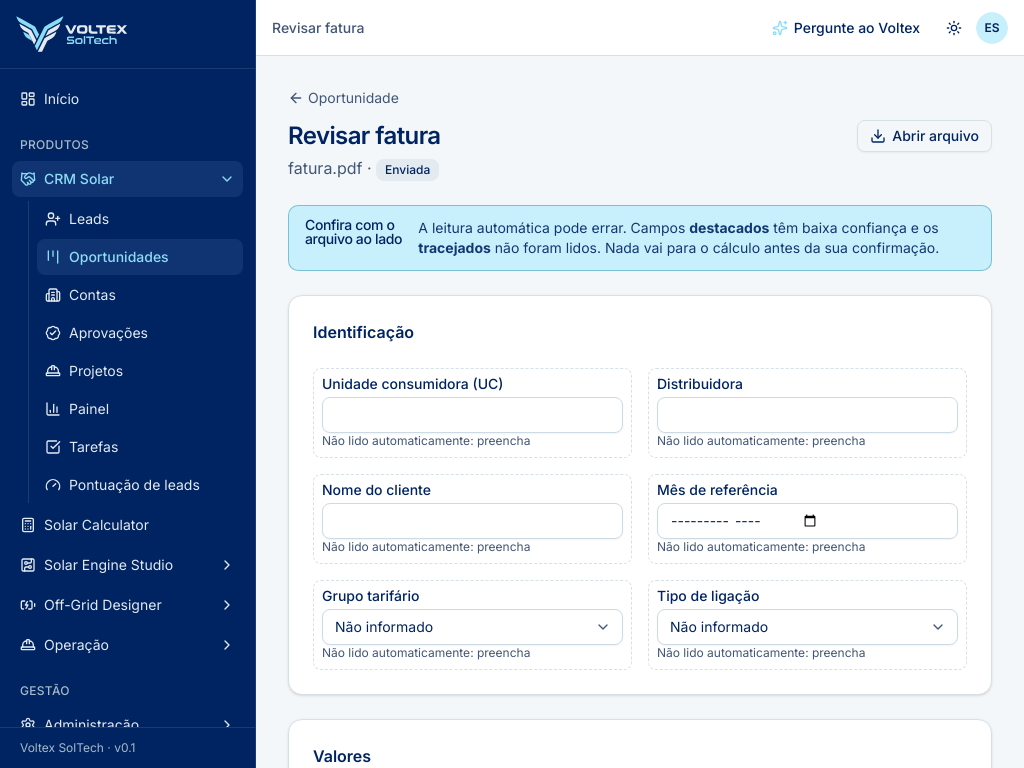
Test: CRM · Revisão da fatura › linha de consumo incompleta aponta o campo; dá para adicionar e remover meses
Type "7001234" into the field labelled "Unidade consumidora (UC)" at (472, 415), box x1=322 y1=397 x2=623 y2=433
(page scrolled)
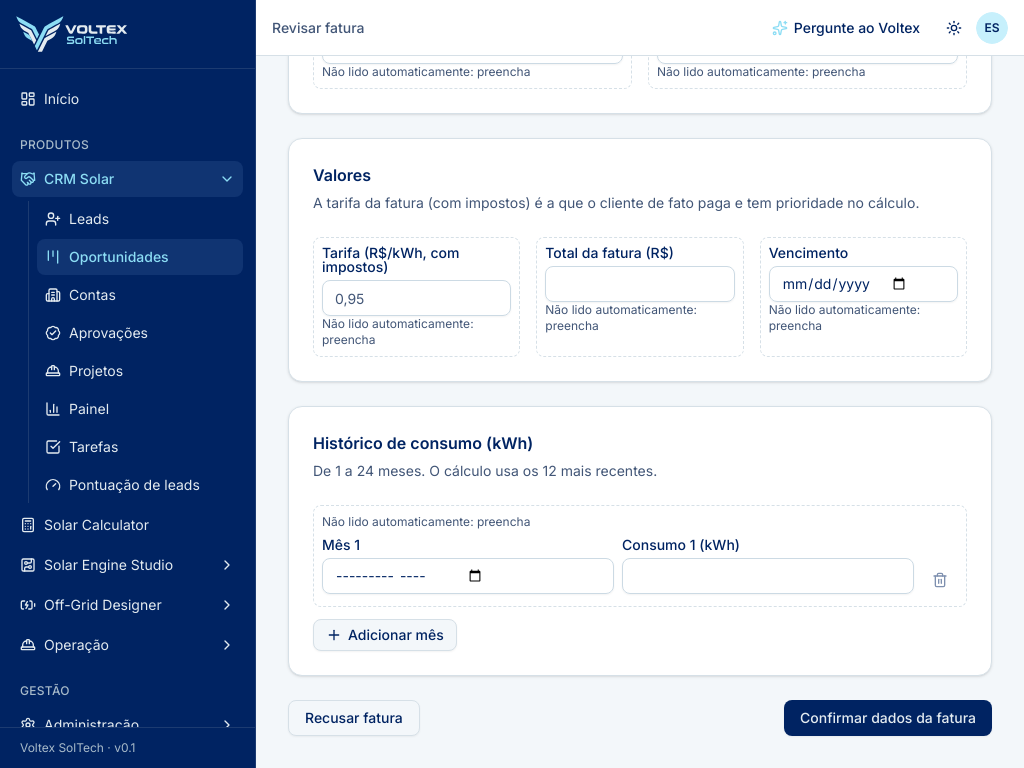
Type "2026-08" into the field labelled "Mês 1" at (468, 576), box x1=322 y1=558 x2=614 y2=594
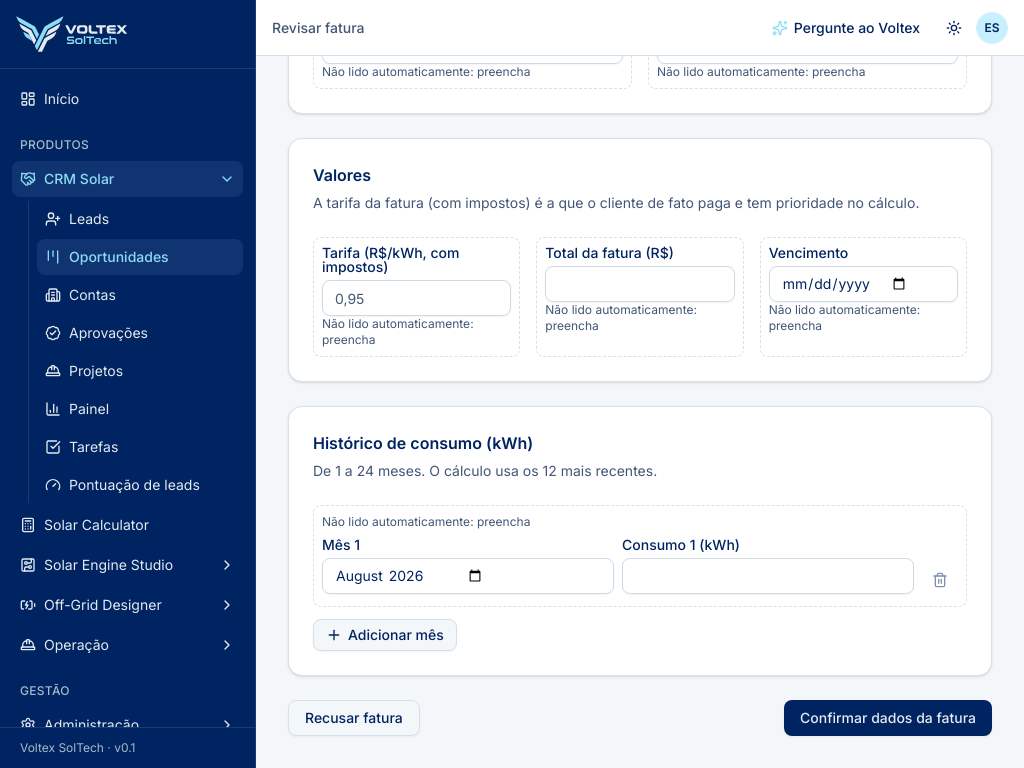
Click the button "Confirmar dados da fatura" at (888, 718), box x1=784 y1=700 x2=992 y2=736
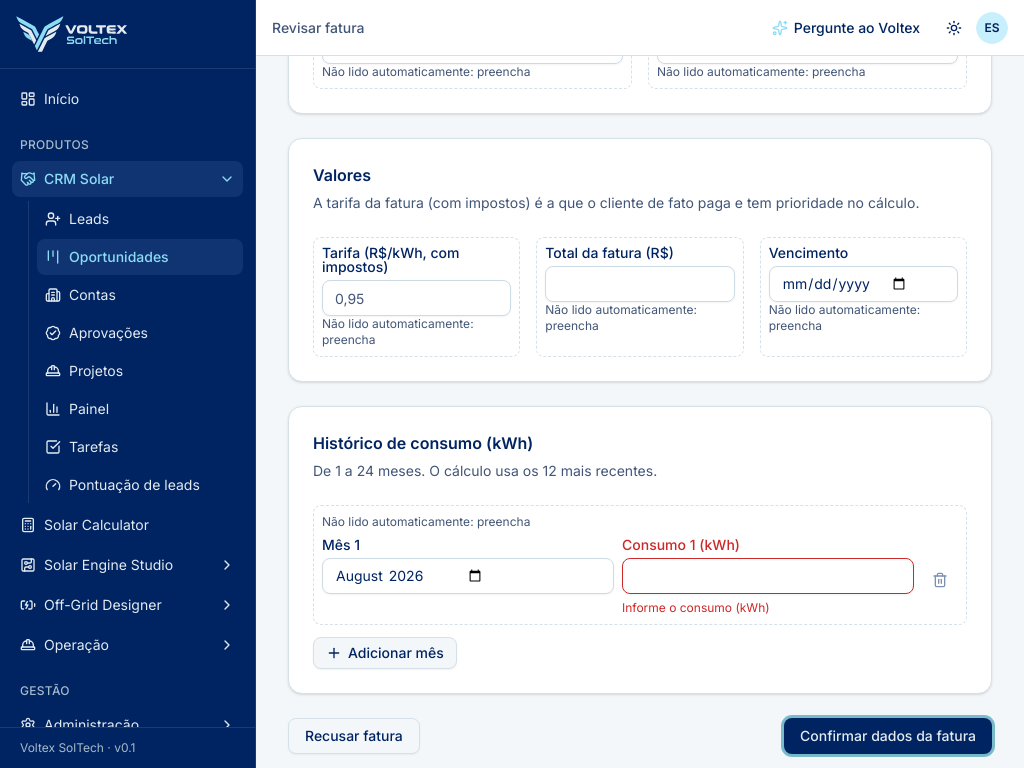
Now the text "Informe o consumo (kWh)" is shown, box x1=622 y1=600 x2=770 y2=615
Click the button "Adicionar mês" at (385, 653), box x1=313 y1=637 x2=457 y2=669
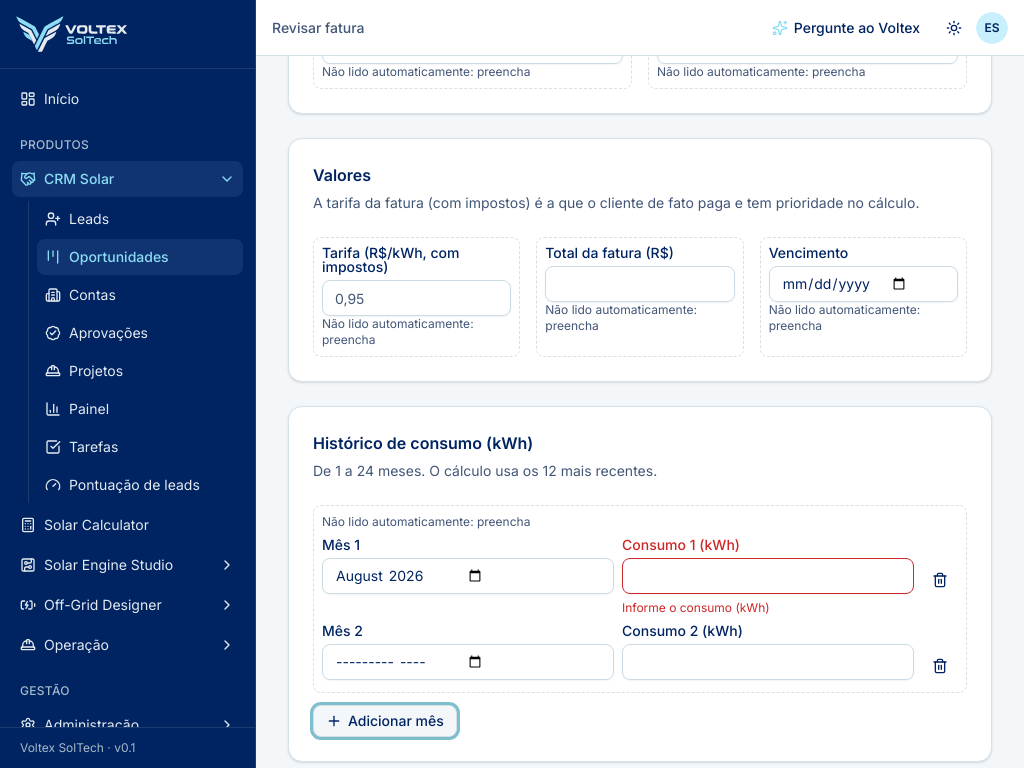
Now the field labelled "Mês 2" is shown, box x1=322 y1=644 x2=614 y2=680
Click the button named "Remover mês 2" at (940, 666), box x1=922 y1=648 x2=958 y2=684
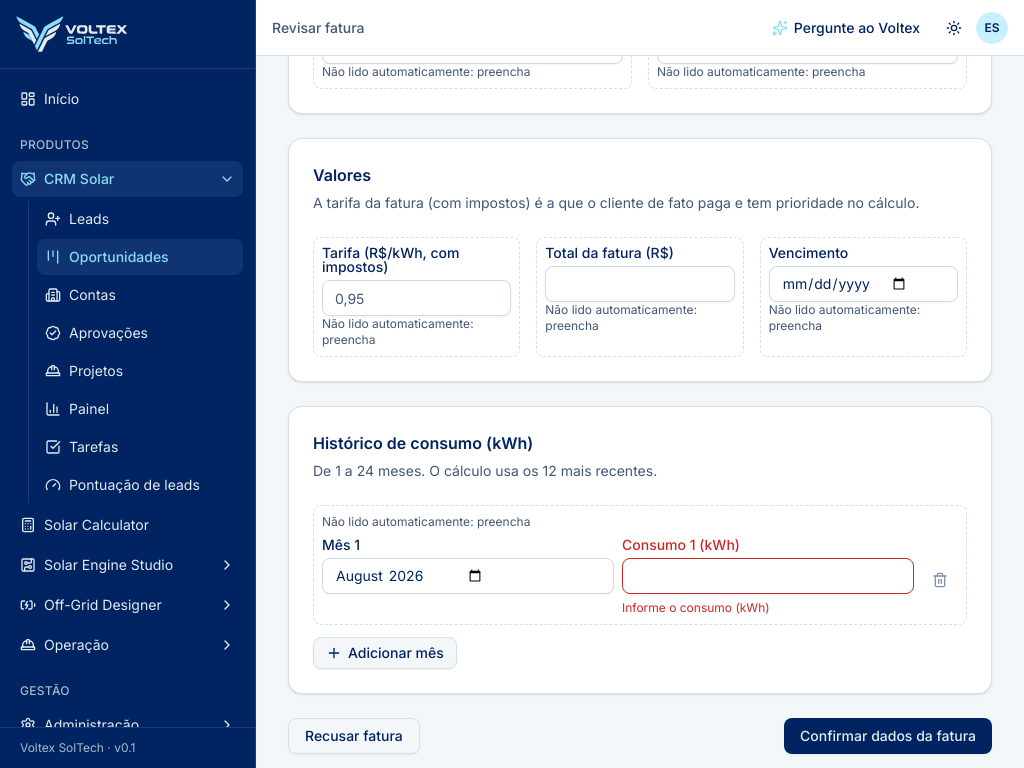
Now the label labelled "Mês 2" is gone
Now the button named "Remover mês 1" is disabled, box x1=922 y1=562 x2=958 y2=598
